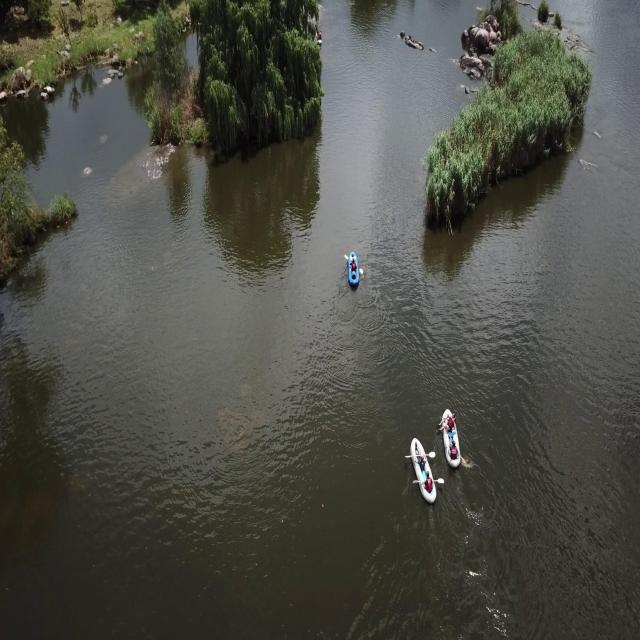kayak: (407, 426, 444, 514), (435, 403, 469, 478), (343, 247, 364, 295)
